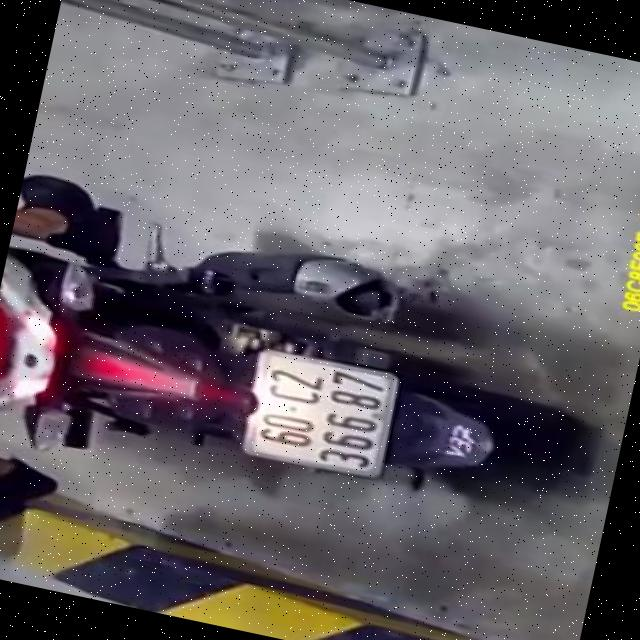license_plate: (236, 344, 408, 485)
